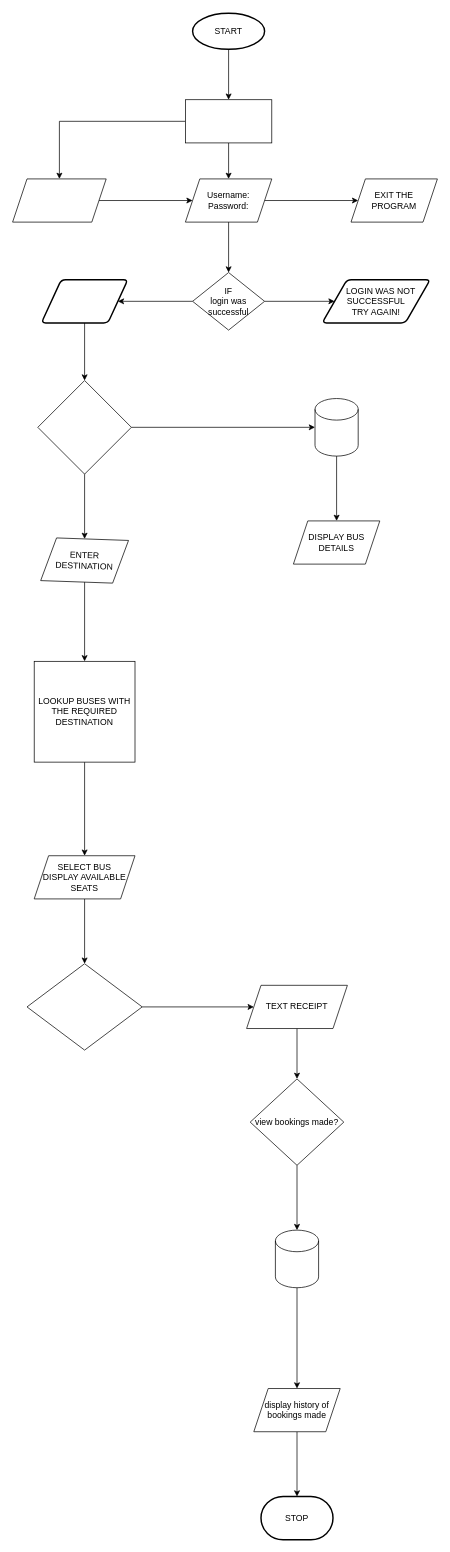
The diagram is 450 pixels wide and 1552 high, and some of its shapes have lost their labels. The shapes that lost their labels are listed below. From the top down, each one's box as (x1, y1, x2, y2) in pixels, then its label:
(185, 99, 272, 143): Input passengers details
(12, 178, 106, 222): create a username: create a password:
(40, 279, 128, 323): LOGIN SUCCESSFUL
(37, 380, 131, 474): 1.Add bus schedule 2.View bus schedule
(314, 398, 358, 456): BUS DETAILS
(26, 963, 142, 1050): CHOOSE SEAT
